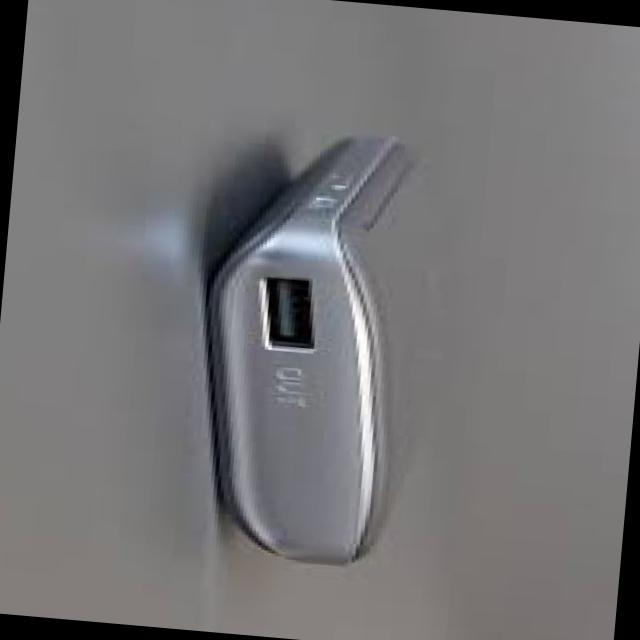power_bank: (178, 126, 457, 577)
